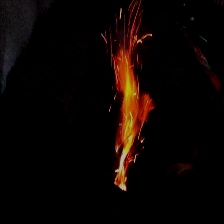fire: (89, 2, 163, 202)
